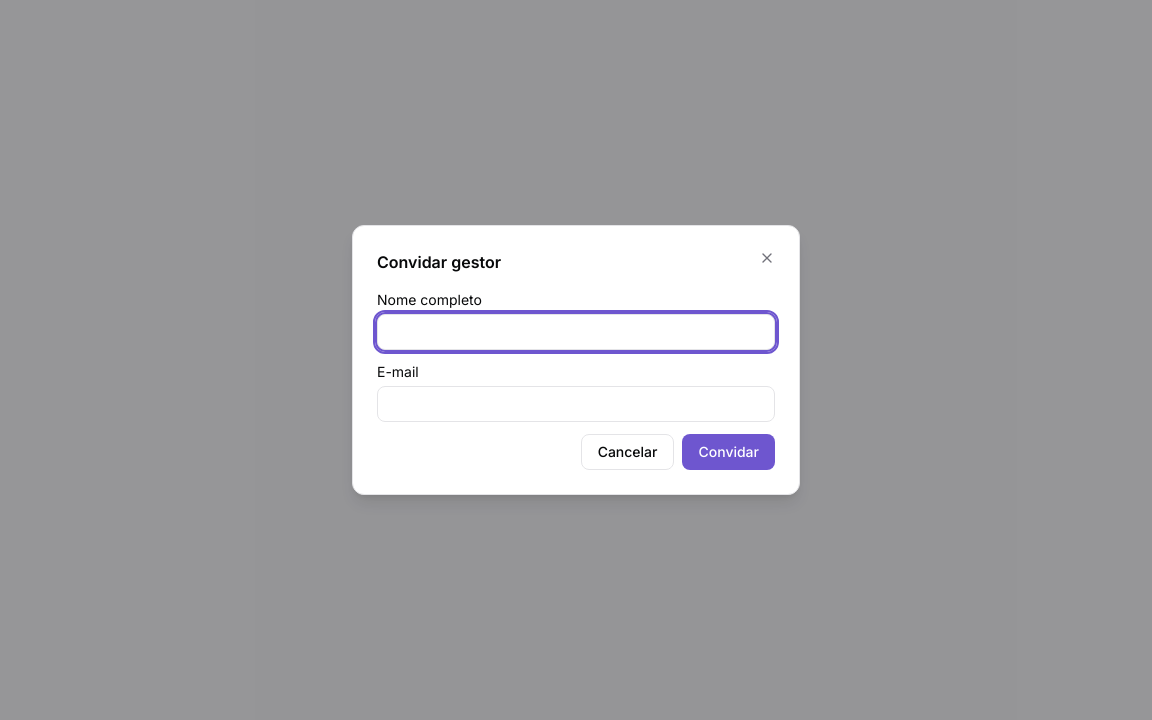
Test: InviteManagerDialog › shows a 409 message inside the dialog and keeps it open
Type "Ana" into the field labelled "Nome completo" at (576, 332), box top-left (377, 314), bottom-right (775, 350)
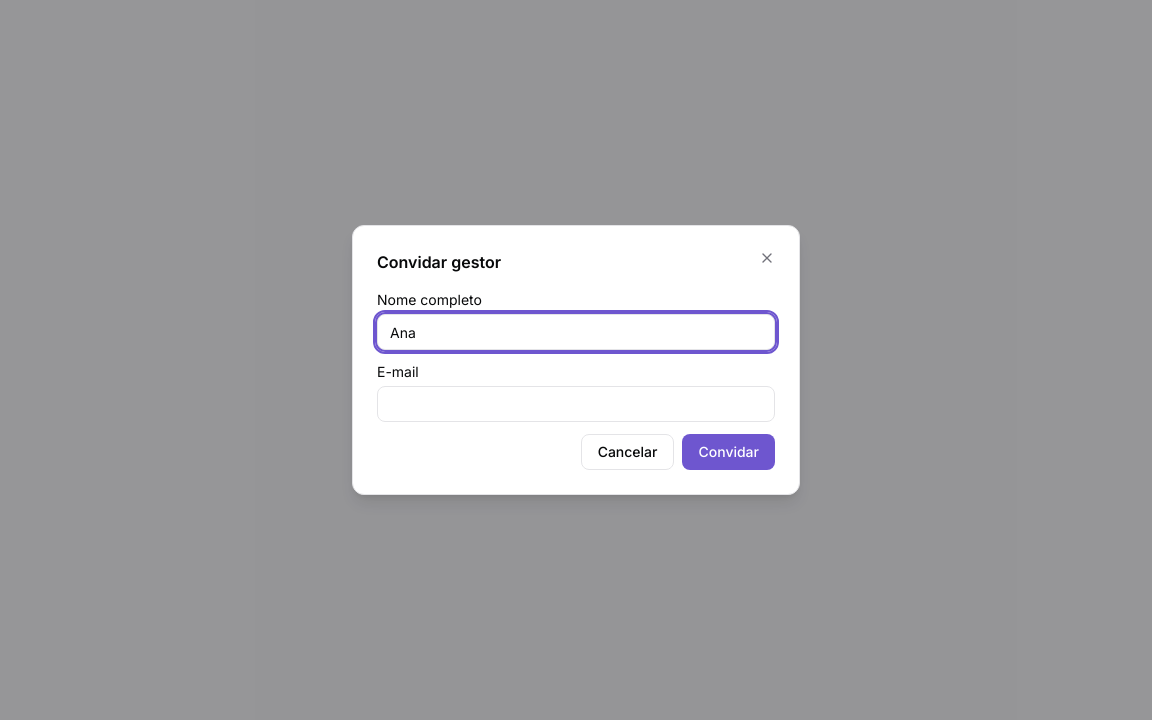
Type "ana@x.com" into the field labelled "E-mail" at (576, 404), box top-left (377, 386), bottom-right (775, 422)
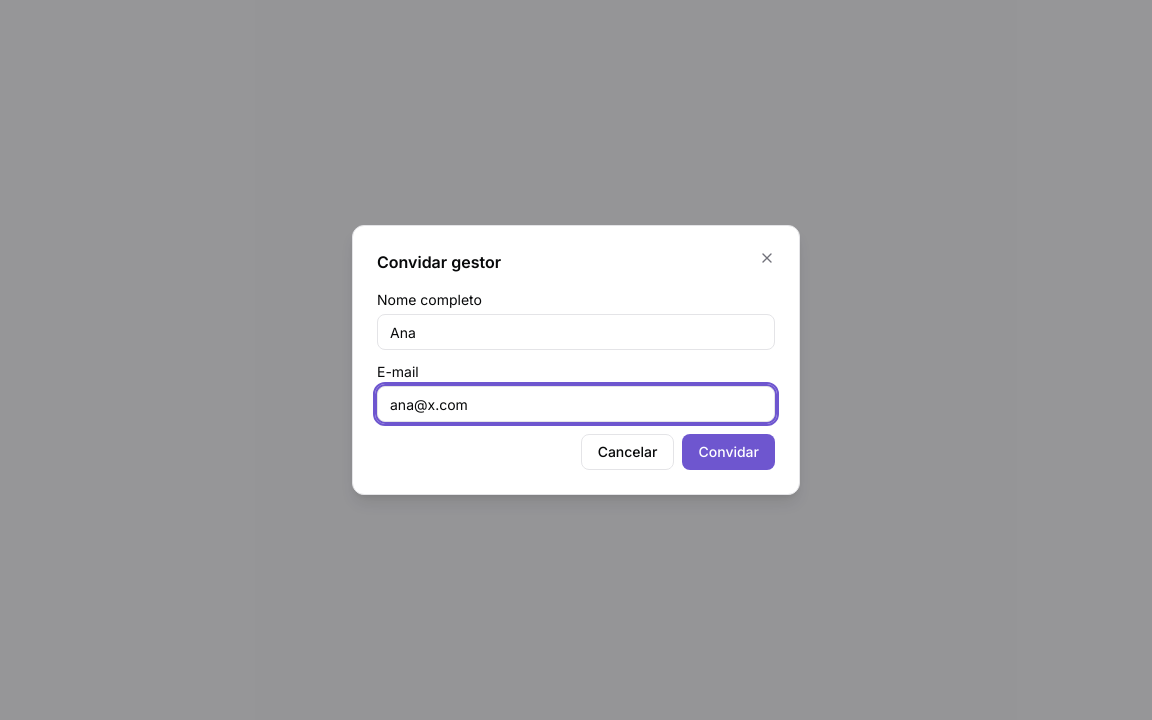
Click the button "Convidar" at (729, 452), box top-left (682, 434), bottom-right (775, 470)
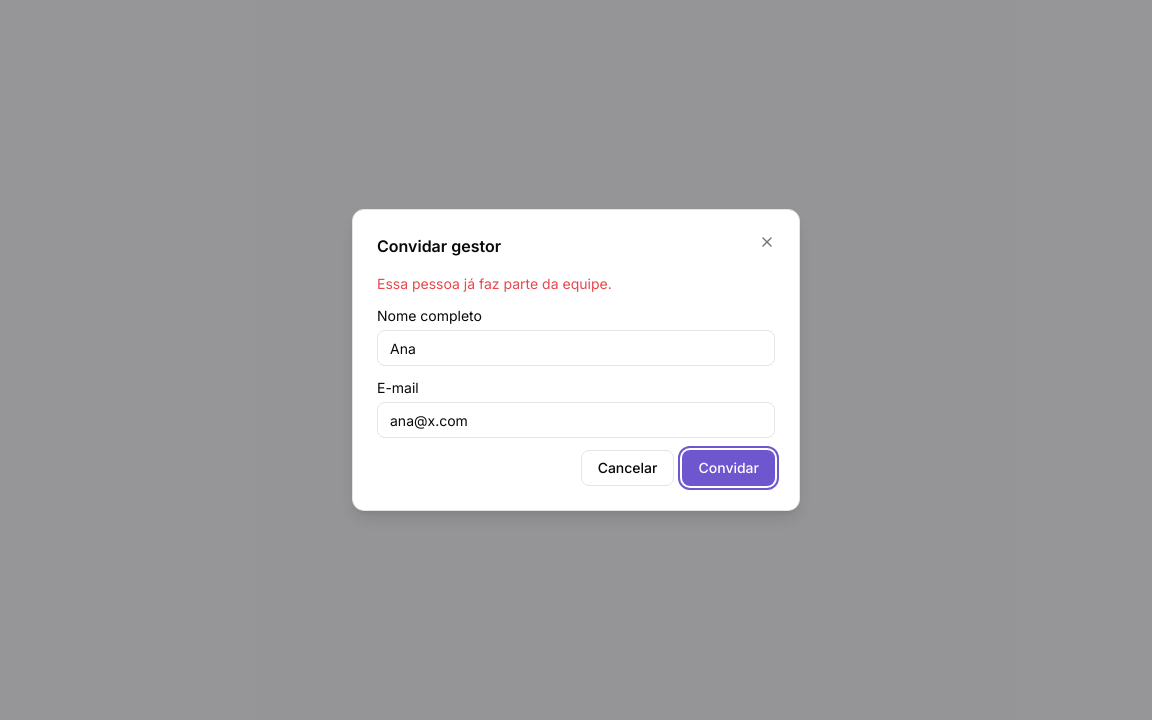
Check: the message reads "Essa pessoa já faz parte da equipe.", box top-left (377, 275), bottom-right (612, 292)
